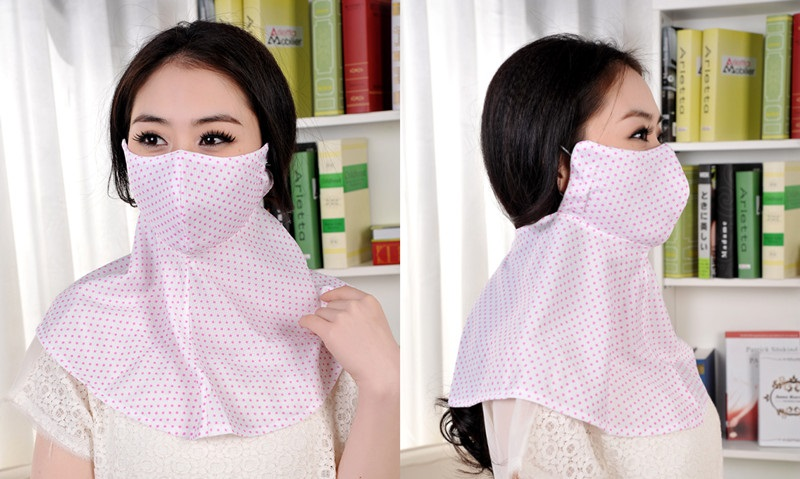face_mask: (128, 63, 264, 248), (578, 67, 689, 245)
